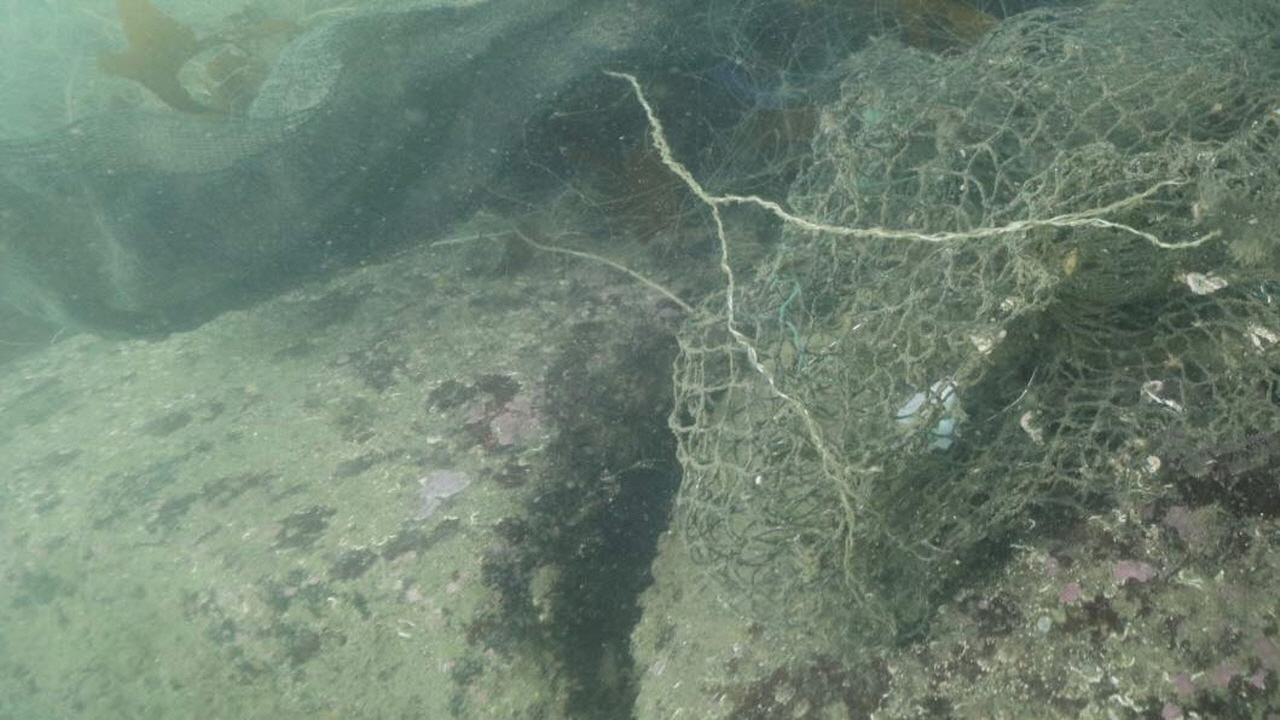fish net: (665, 0, 1280, 617)
